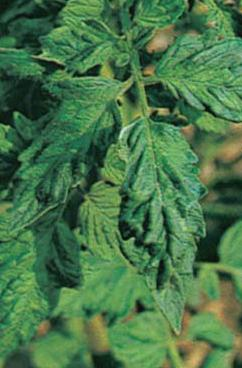Tomato leaf mosaic virus: (108, 122, 207, 328), (8, 73, 128, 229), (0, 211, 80, 358), (156, 36, 242, 132), (30, 28, 133, 71), (126, 0, 188, 37)
